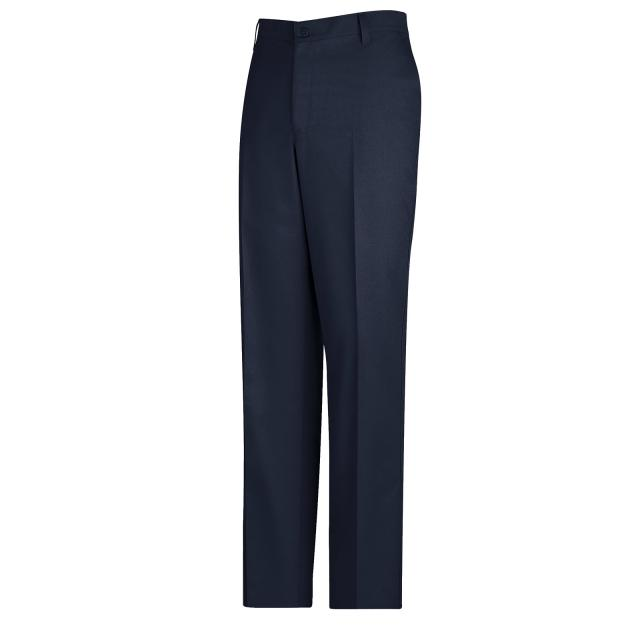long-pants: (239, 11, 422, 612)
